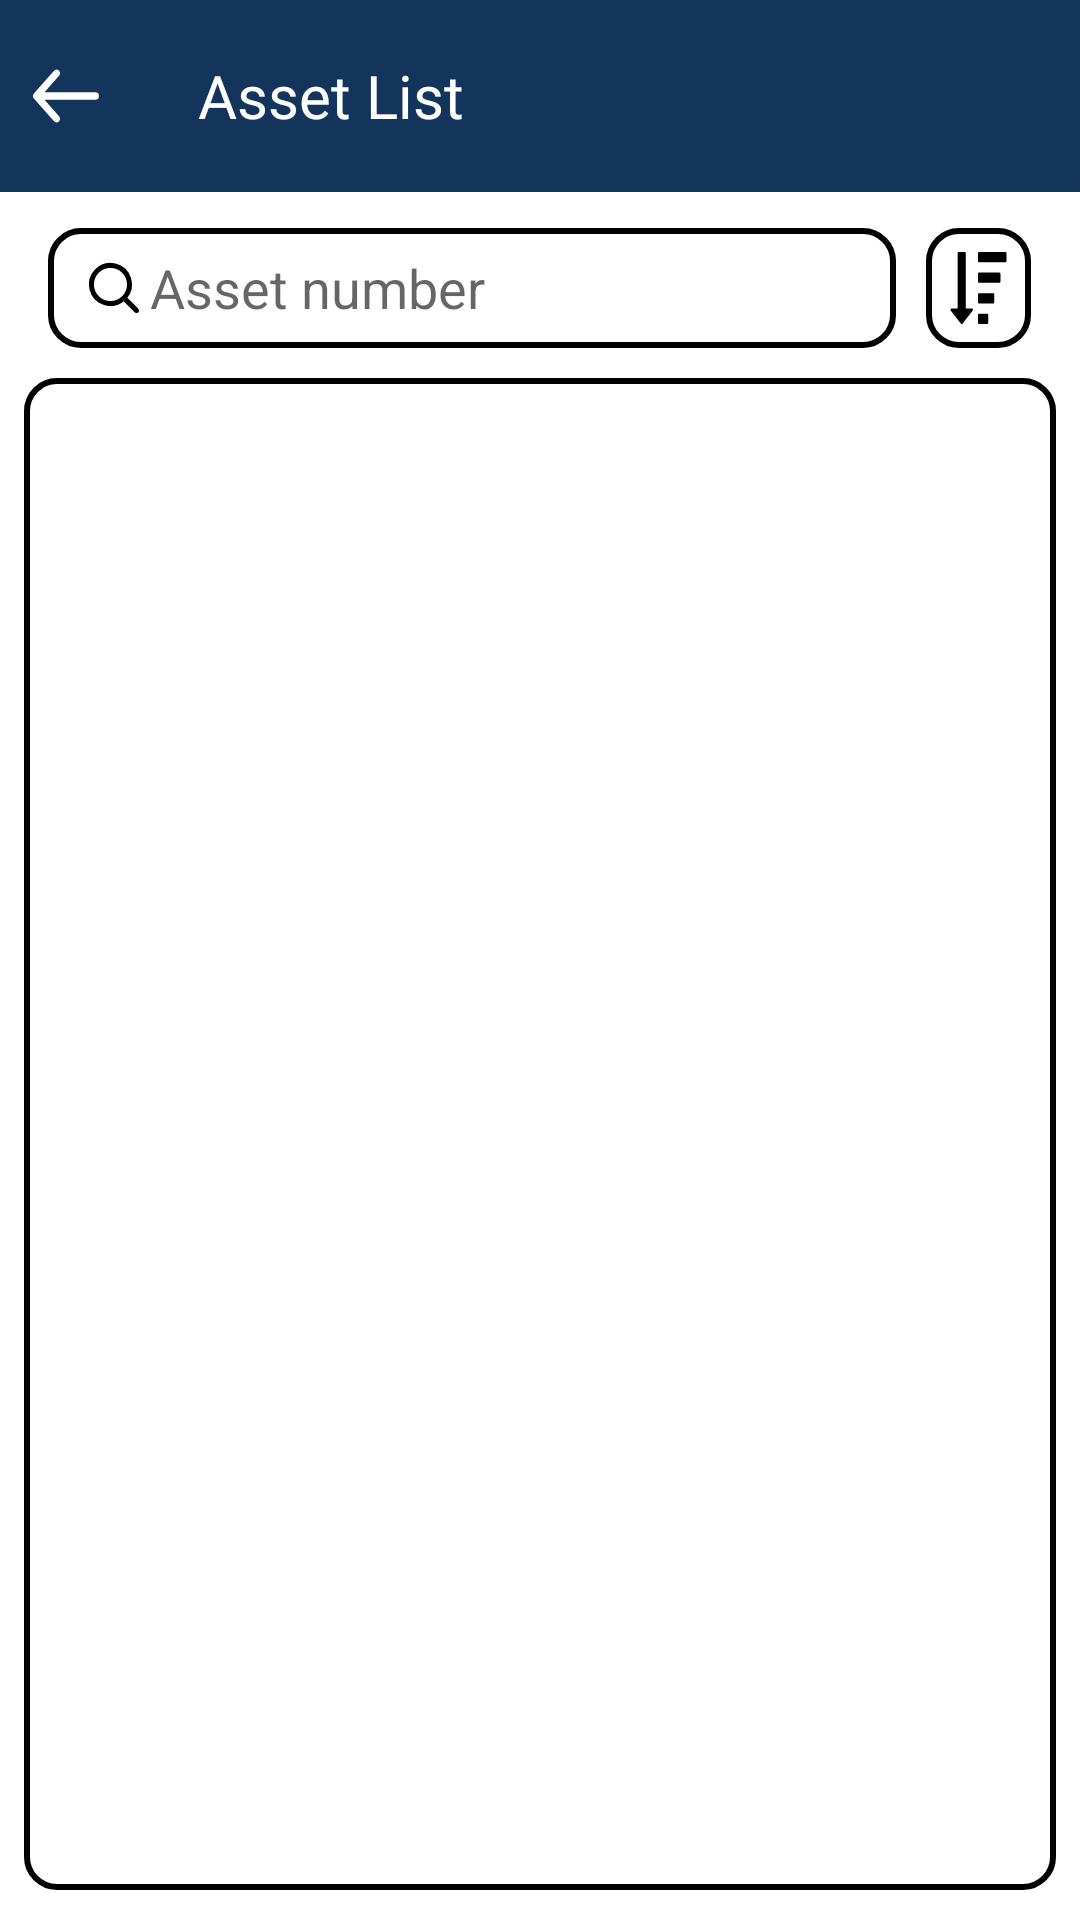

Locate icon controls on the screen. Image size 1080 × 1920, boxes as (x1, y1, x2, y2).
back: (33, 69, 99, 123)
sort: (950, 252, 1007, 324)
